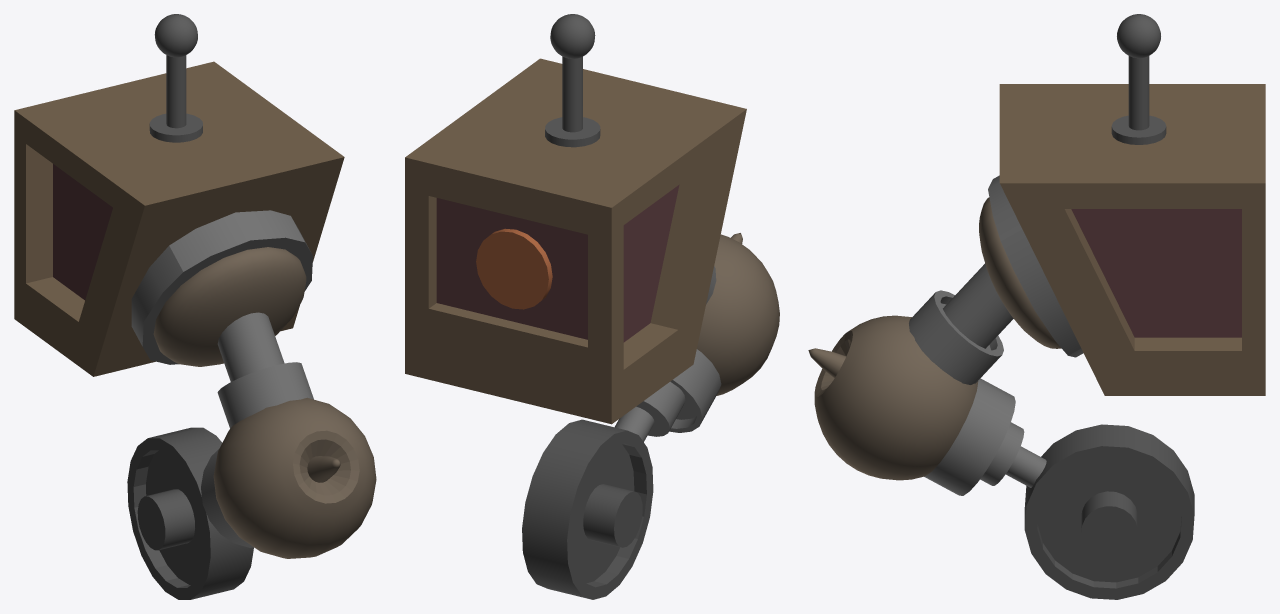
The model's file is Second robot.fbx.
3 views of the same model, side by side, from view 1: azimuth 30°, elevation 25°; view 2: azimuth 150°, elevation 25°; view 3: azimuth 270°, elevation 25° (orthographic). The views are drawn at different scales.
Visible parts, largest first — view 1: pCube2, pSphere1, pCylinder1, pSphere2, pCube1, pCylinder3, pCylinder5, pSphere3, pCylinder2; view 2: pCube2, pCylinder1, pSphere1, pCylinder4, pCylinder2, pCylinder5, pSphere3; view 3: pCube2, pCylinder1, pSphere1, pCylinder3, pCylinder2, pCube1, pSphere2, pCylinder5, pSphere3.
Boxes of the visible parts, <box> form: pCube2: <box>14,61,344,376</box>; pSphere1: <box>213,397,376,558</box>; pCylinder1: <box>127,427,253,599</box>; pSphere2: <box>153,247,306,366</box>; pCube1: <box>131,210,312,364</box>; pCylinder3: <box>217,312,313,428</box>; pCylinder5: <box>149,55,202,142</box>; pSphere3: <box>154,14,197,57</box>; pCylinder2: <box>201,448,253,547</box>; pCube2: <box>405,58,746,424</box>; pCylinder1: <box>522,419,653,599</box>; pSphere1: <box>697,233,779,395</box>; pCylinder4: <box>476,228,552,309</box>; pCylinder2: <box>615,349,721,441</box>; pCylinder5: <box>545,56,600,147</box>; pSphere3: <box>550,14,595,58</box>; pCube2: <box>999,84,1265,395</box>; pCylinder1: <box>1024,424,1194,599</box>; pSphere1: <box>808,315,978,480</box>; pCylinder3: <box>909,263,1013,384</box>; pCylinder2: <box>924,378,1046,495</box>; pCube1: <box>988,175,1083,357</box>; pSphere2: <box>979,197,1061,348</box>; pCylinder5: <box>1111,56,1166,144</box>; pSphere3: <box>1117,14,1160,58</box>.
Bounding box in the file's own units: 4.13 × 11.12 × 8.04.
